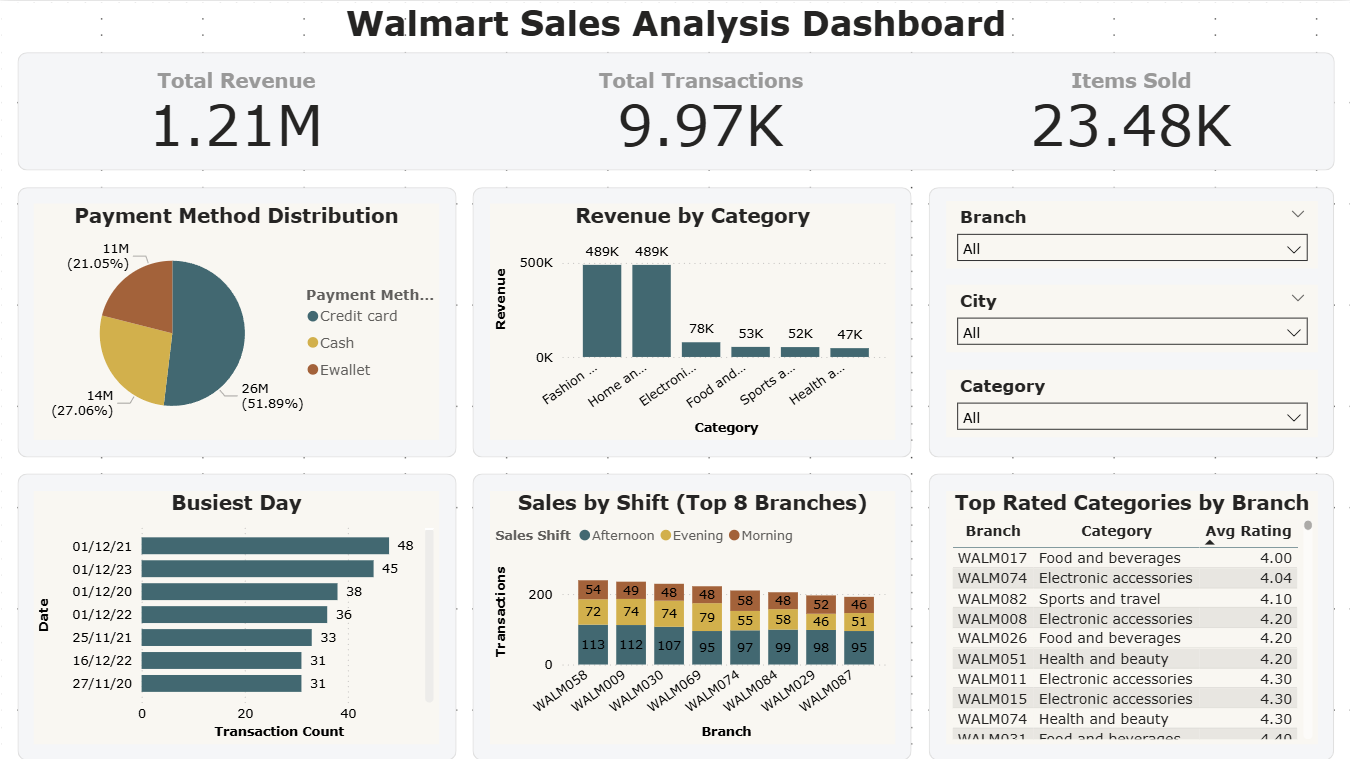

The dashboard page shown, as its layout file describes it:
{"tool":"powerbi","page":{"name":"Page 1","canvas":[1280,720],"ordinal":0},"visuals":[{"type":"shape","box":[880,448,384,272],"z":0},{"type":"shape","box":[448,448,416,272],"z":1000},{"type":"shape","box":[16,448,416,272],"z":2000},{"type":"shape","box":[16,48,1248,112],"z":3000},{"type":"shape","box":[880,176,384,256],"z":4000},{"type":"shape","box":[448,176,416,256],"z":5000},{"type":"shape","box":[16,176,416,256],"z":6000},{"type":"card","title":"Total Revenue","fields":{"Values":["Sum(walmart_db walmart.total)"]},"box":[96,64,256,80],"z":7000},{"type":"card","title":"Total Transactions","fields":{"Values":["walmart_db walmart.Total Transactions"]},"box":[528,64,272,80],"z":8000},{"type":"pieChart","title":"Payment Method Distribution","fields":{"Category":["walmart_db walmart.payment_method"],"Y":["Sum(walmart_db walmart.invoice_id)"]},"box":[32,192,384,224],"z":9000},{"type":"columnChart","title":"Sales by Shift (Top 8 Branches)","fields":{"Category":["walmart_db walmart.branch"],"Series":["walmart_db walmart.Sales Shift"],"Y":["walmart_db walmart.Transaction Count"]},"box":[464,464,384,240],"z":10000},{"type":"tableEx","title":"Top Rated Categories by Branch","fields":{"Values":["walmart_db walmart.branch","walmart_db walmart.category","walmart_db walmart.Average Rating"]},"box":[896,464,352,240],"z":11000},{"type":"clusteredBarChart","title":"Busiest Day","fields":{"Y":["walmart_db walmart.Transaction Count"],"Category":["walmart_db walmart.date"]},"box":[32,464,384,240],"z":12000},{"type":"slicer","title":"Branch","fields":{"Values":["walmart_db walmart.branch"]},"box":[896,189.1,352,64],"z":13000},{"type":"slicer","title":"Branch","fields":{"Values":["walmart_db walmart.city"]},"box":[896,269.1,352,64],"z":14000},{"type":"slicer","title":"Branch","fields":{"Values":["walmart_db walmart.category"]},"box":[896,349.1,352,64],"z":15000},{"type":"clusteredColumnChart","title":"Revenue by Category","fields":{"Category":["walmart_db walmart.category"],"Y":["Sum(walmart_db walmart.total)"]},"box":[464,192,384,224],"z":16000},{"type":"card","title":"Items Sold","fields":{"Values":["walmart_db walmart.Items Sold"]},"box":[944,64,256,80],"z":17000},{"type":"textbox","box":[16,0,1248,48],"z":18000}]}

Visuals, with their boxes in screenshot pixels (x1, y1, x2, y2), scaled from the page's 1280x720 canvas onto the 1350x759 screenshot:
shape: [left=928, top=472, right=1333, bottom=758]
shape: [left=472, top=472, right=911, bottom=758]
shape: [left=17, top=472, right=456, bottom=758]
shape: [left=17, top=51, right=1333, bottom=169]
shape: [left=928, top=186, right=1333, bottom=455]
shape: [left=472, top=186, right=911, bottom=455]
shape: [left=17, top=186, right=456, bottom=455]
"Total Revenue" card: [left=101, top=67, right=371, bottom=152]
"Total Transactions" card: [left=557, top=67, right=844, bottom=152]
"Payment Method Distribution" pieChart: [left=34, top=202, right=439, bottom=439]
"Sales by Shift (Top 8 Branches)" columnChart: [left=489, top=489, right=894, bottom=742]
"Top Rated Categories by Branch" tableEx: [left=945, top=489, right=1316, bottom=742]
"Busiest Day" clusteredBarChart: [left=34, top=489, right=439, bottom=742]
"Branch" slicer: [left=945, top=199, right=1316, bottom=267]
"Branch" slicer: [left=945, top=284, right=1316, bottom=351]
"Branch" slicer: [left=945, top=368, right=1316, bottom=435]
"Revenue by Category" clusteredColumnChart: [left=489, top=202, right=894, bottom=439]
"Items Sold" card: [left=996, top=67, right=1266, bottom=152]
textbox: [left=17, top=0, right=1333, bottom=51]
